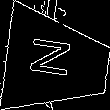N_E: (32, 40, 83, 86)
